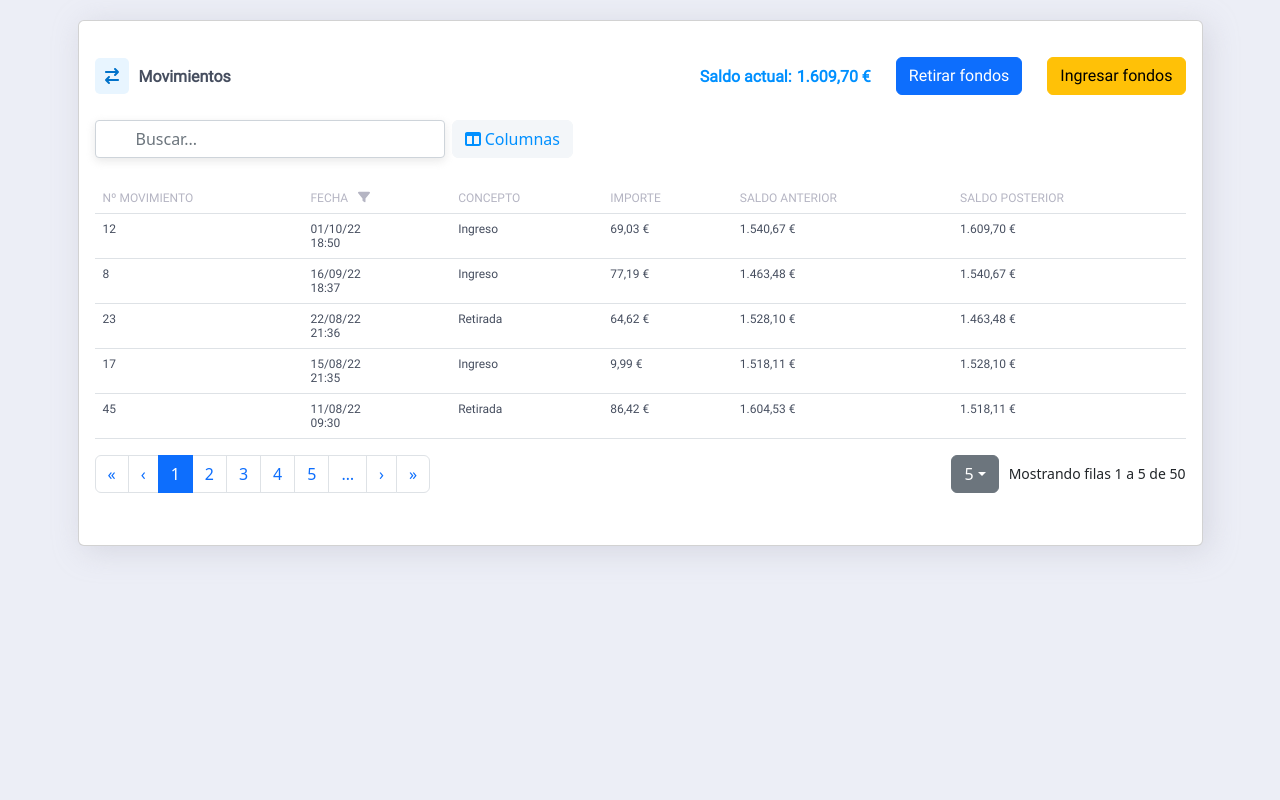
it: wallet › should add to the wallet
Step 1. Click the button "Ingresar fondos" → (1116, 76), box [1047,57,1185,95]
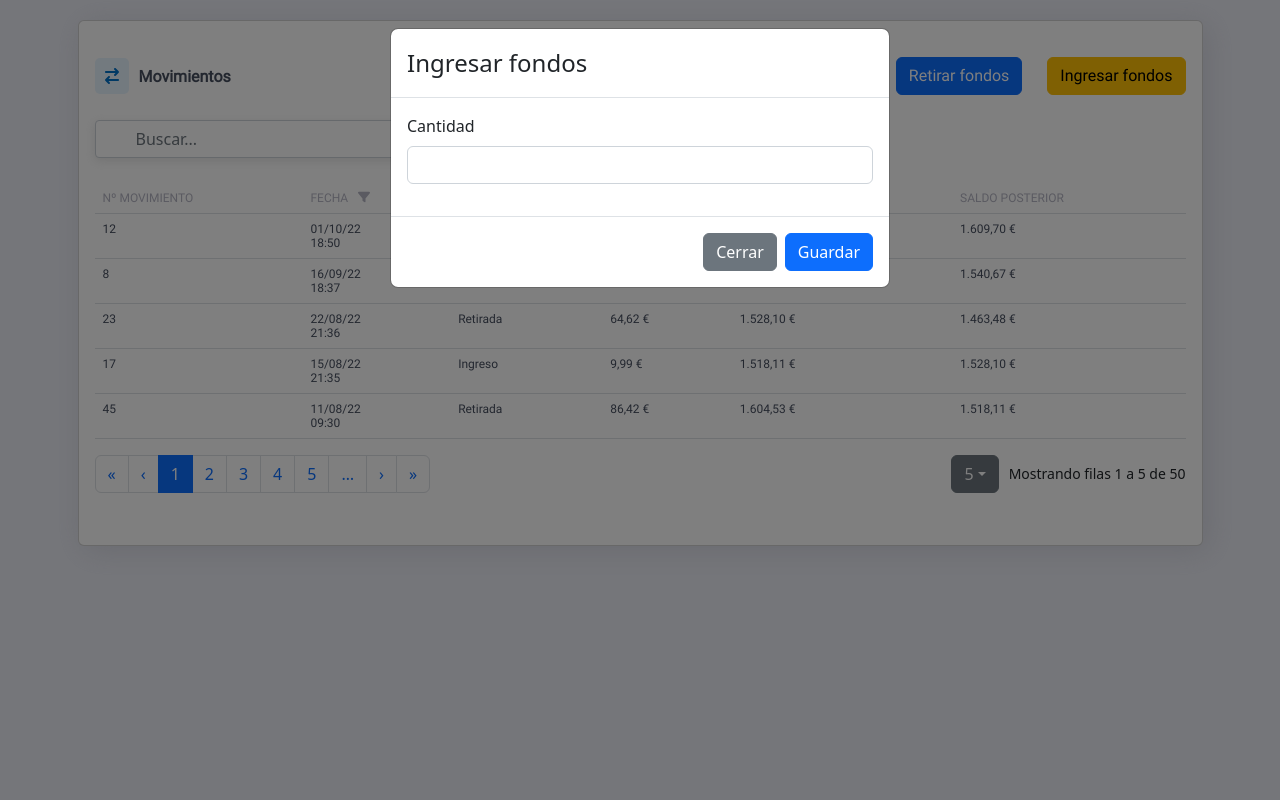
Step 2. Type "1000" into the field labelled "Cantidad" → (640, 165), box [407,146,873,184]
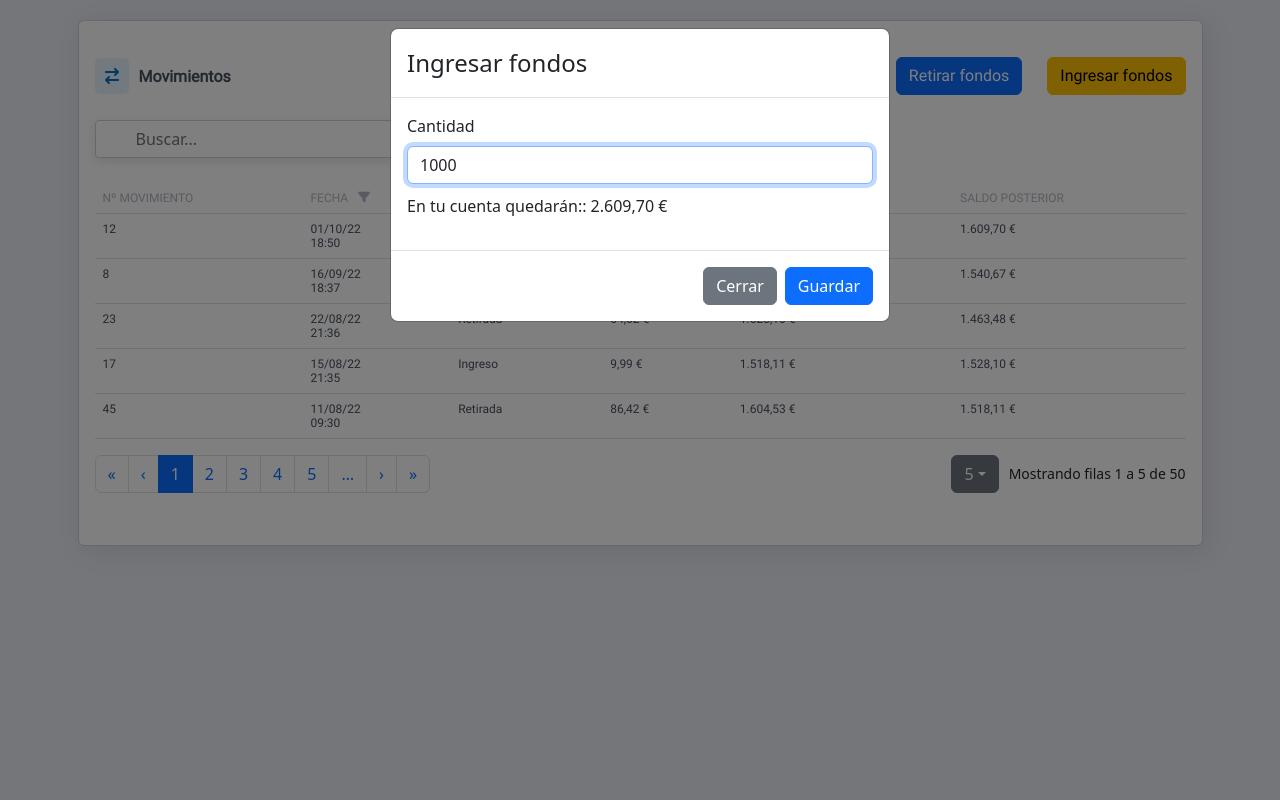
Step 3. Click the button "Guardar" → (829, 286), box [785,267,873,305]
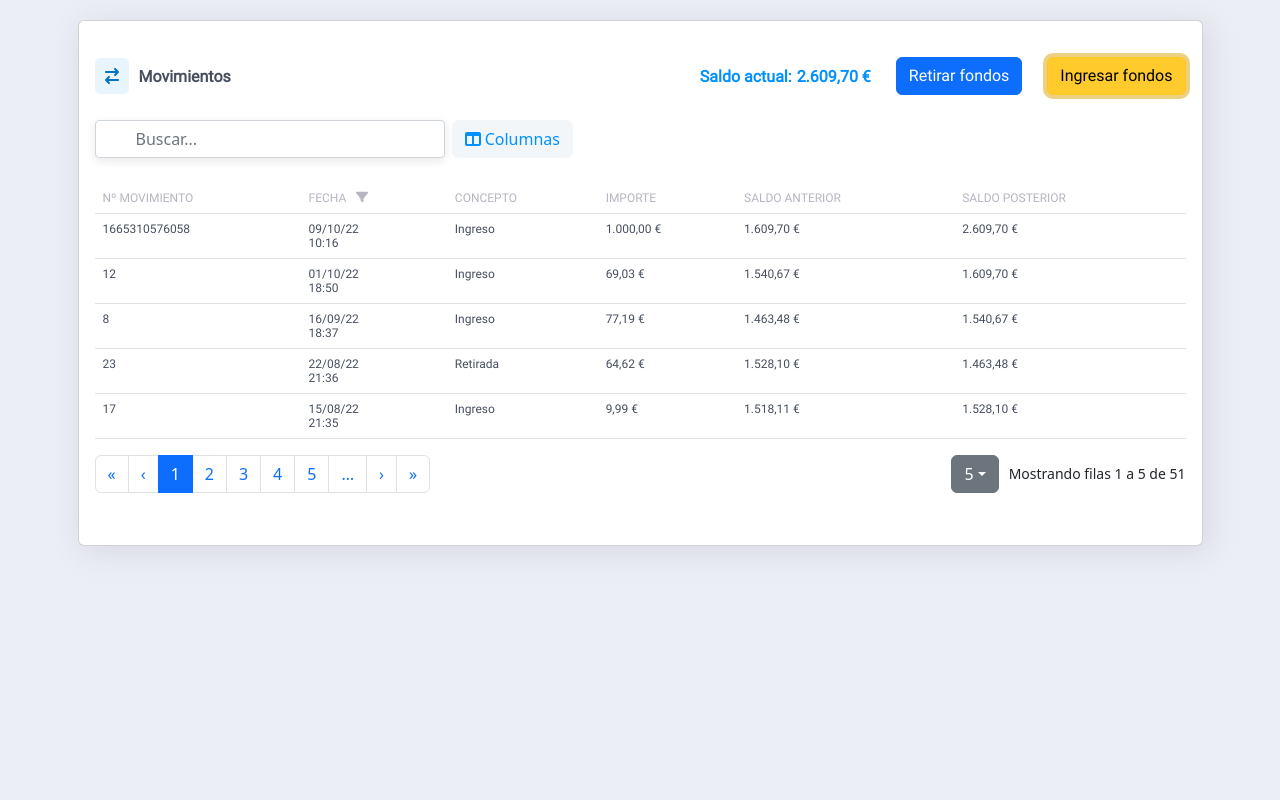
Check: the text "2.609,70 €" next to "Saldo actual:" is shown, box [797,67,871,86]
